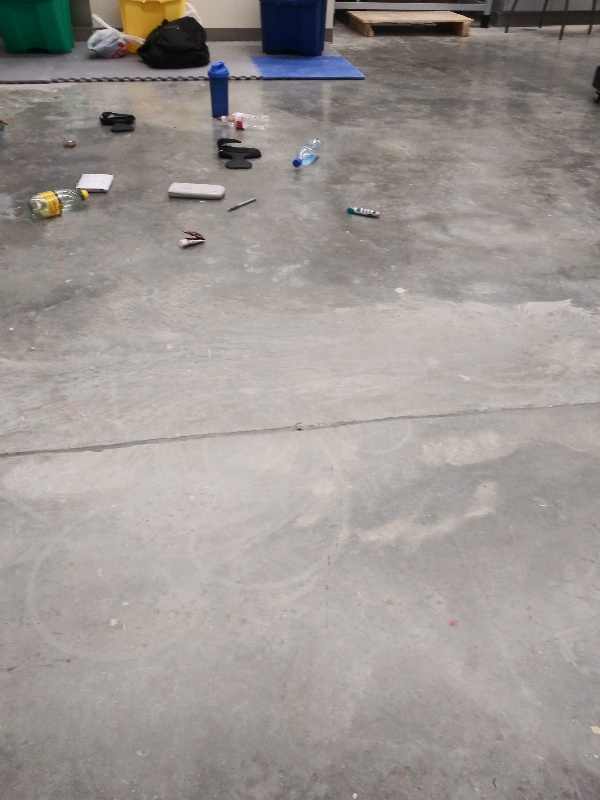bottle: (23, 185, 92, 223), (215, 110, 275, 134), (290, 134, 325, 173)
